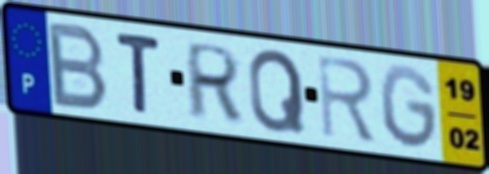B: (47, 19, 112, 113)
G: (377, 62, 440, 153)
Q: (247, 47, 309, 135)
R: (314, 52, 380, 146), (185, 39, 244, 124)
T: (113, 28, 164, 118)
